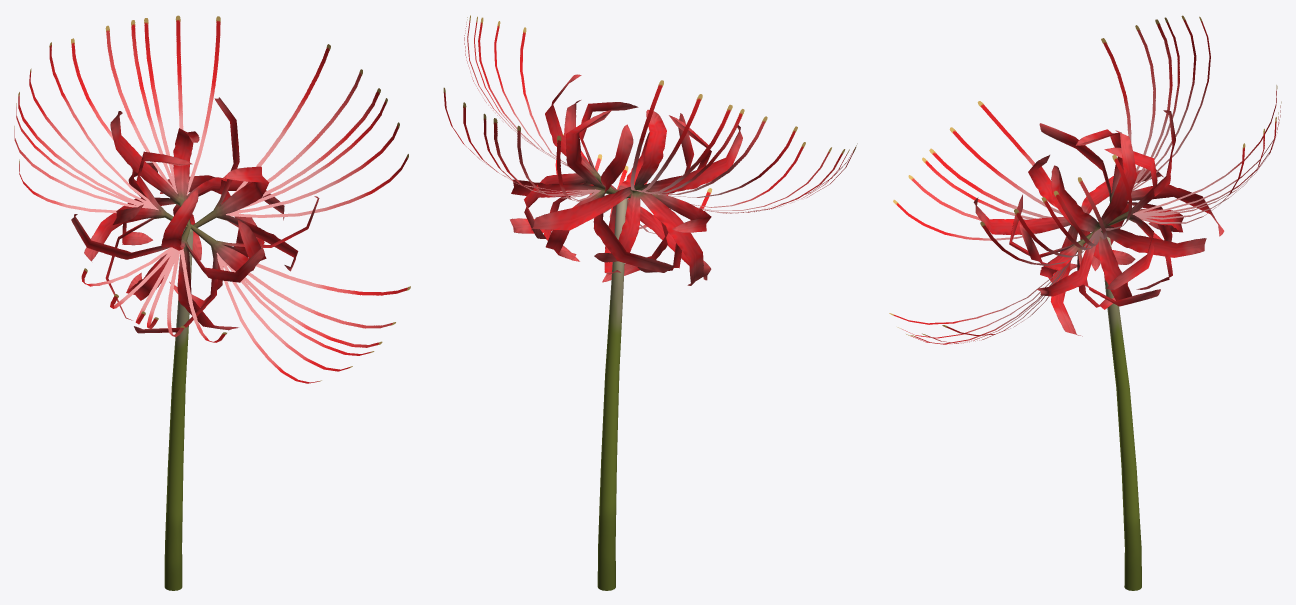
File: JT_Gy_Fol_Higanbana_A_01.fbx
3 views of the same model, side by side, from view 1: azimuth 30°, elevation 25°; view 2: azimuth 150°, elevation 25°; view 3: azimuth 270°, elevation 25° (orthographic). The views are drawn at different scales.
Visible parts, largest first — view 1: JT_Gy_Fol_Higanbana_A_01, JT_Gy_Fol_Higanbana_A_01_LOD0; view 2: JT_Gy_Fol_Higanbana_A_01_LOD0, JT_Gy_Fol_Higanbana_A_01; view 3: JT_Gy_Fol_Higanbana_A_01, JT_Gy_Fol_Higanbana_A_01_LOD0.
Part boxes in pixels (<box>): JT_Gy_Fol_Higanbana_A_01: <box>14,15,393,590</box>; JT_Gy_Fol_Higanbana_A_01_LOD0: <box>19,98,410,587</box>; JT_Gy_Fol_Higanbana_A_01_LOD0: <box>443,17,856,590</box>; JT_Gy_Fol_Higanbana_A_01: <box>464,15,857,590</box>; JT_Gy_Fol_Higanbana_A_01: <box>910,15,1279,590</box>; JT_Gy_Fol_Higanbana_A_01_LOD0: <box>889,101,1281,590</box>.
Size of what is drawn, in the model's own units: 0.5055 by 0.774 by 0.521.
